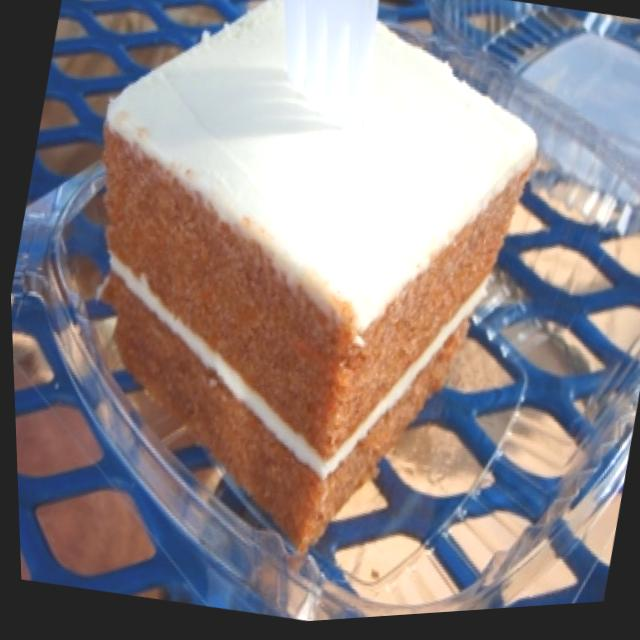蛋糕甜品: (8, 0, 593, 590)
